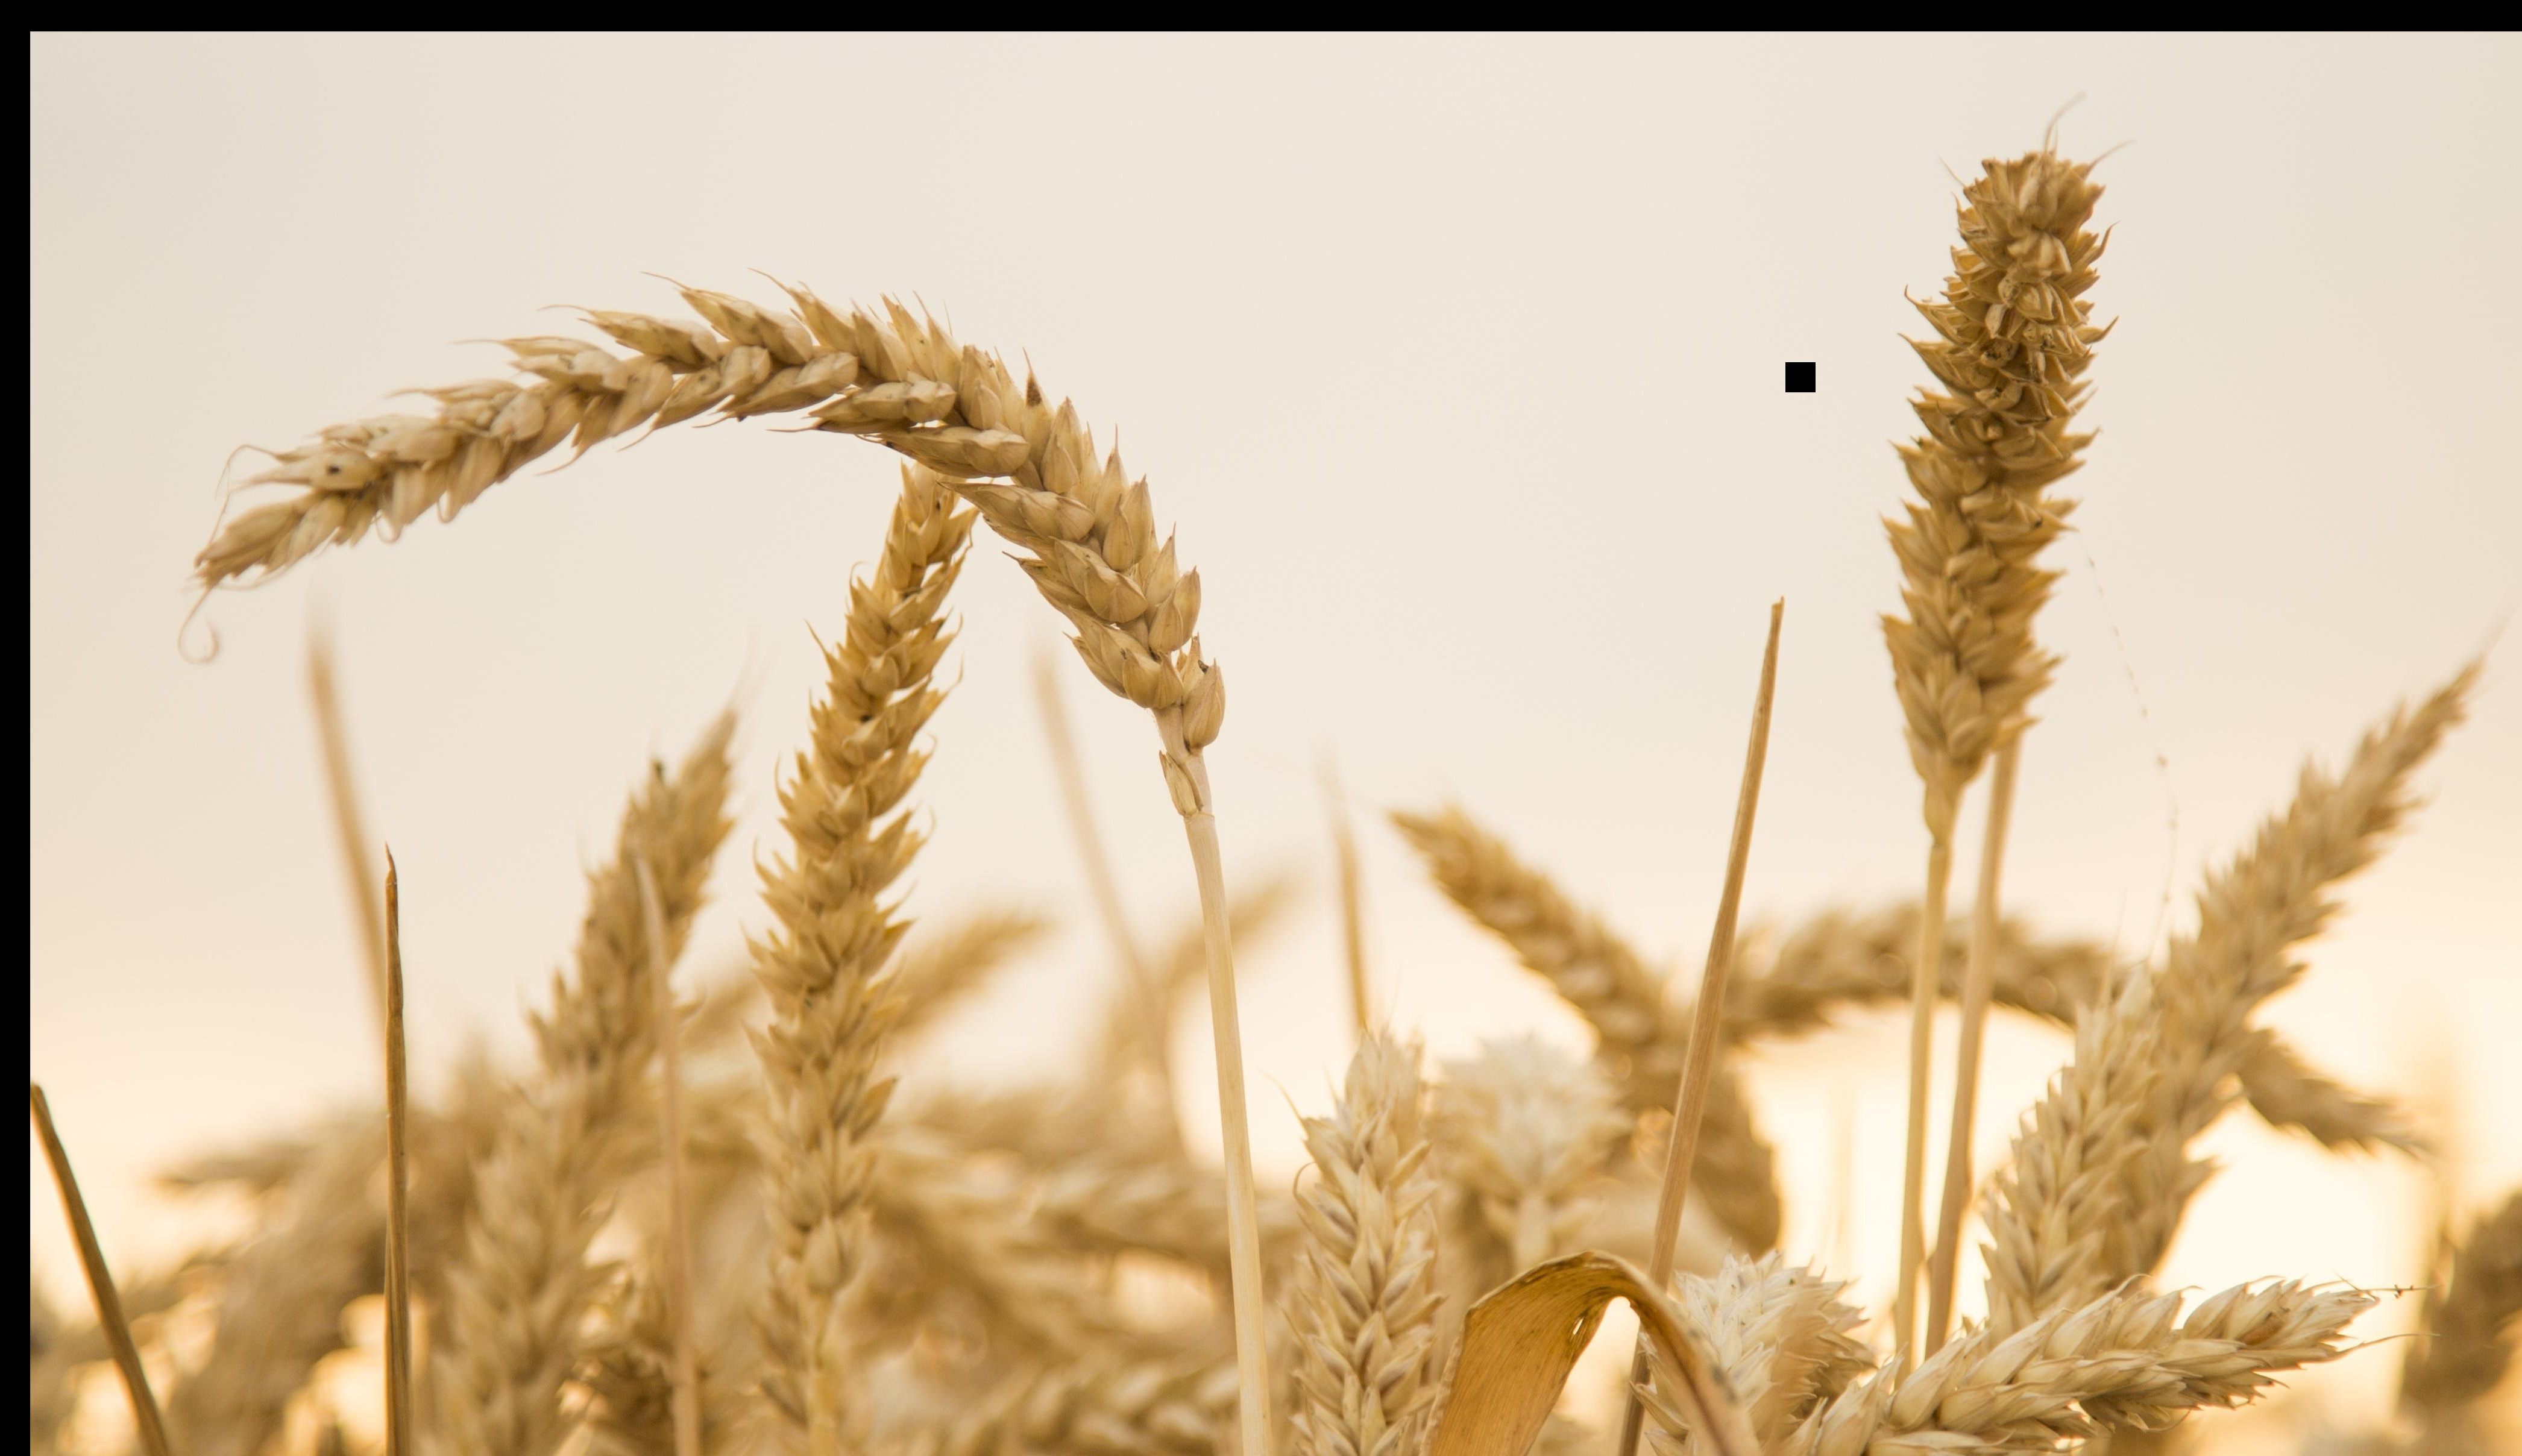wheat: (151, 263, 1224, 782), (742, 407, 978, 1368), (1896, 71, 2108, 882)
